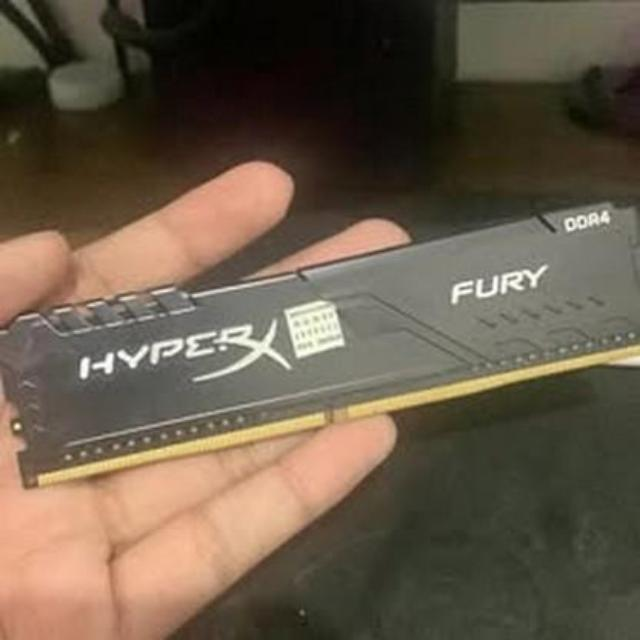RAM: (0, 196, 640, 502)
